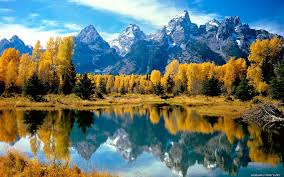lake: (2, 105, 263, 171)
mountain: (7, 23, 284, 95)
sky: (3, 2, 175, 36)
tree: (15, 39, 76, 100), (223, 40, 284, 101)
